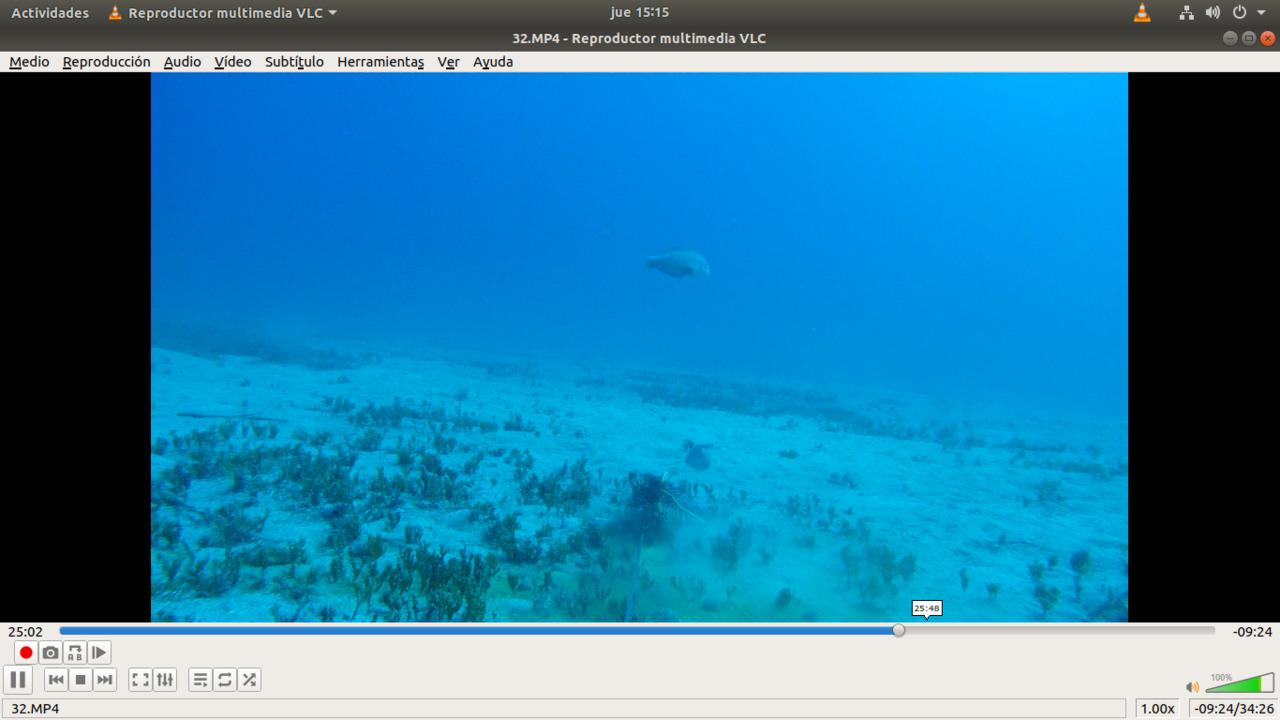raor: (632, 242, 725, 290)
